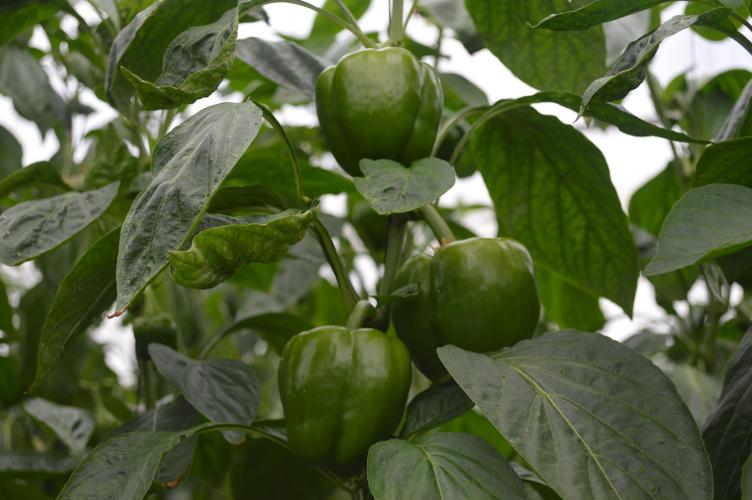BellPepper: (271, 327, 416, 472), (394, 237, 540, 371), (312, 47, 441, 167)
